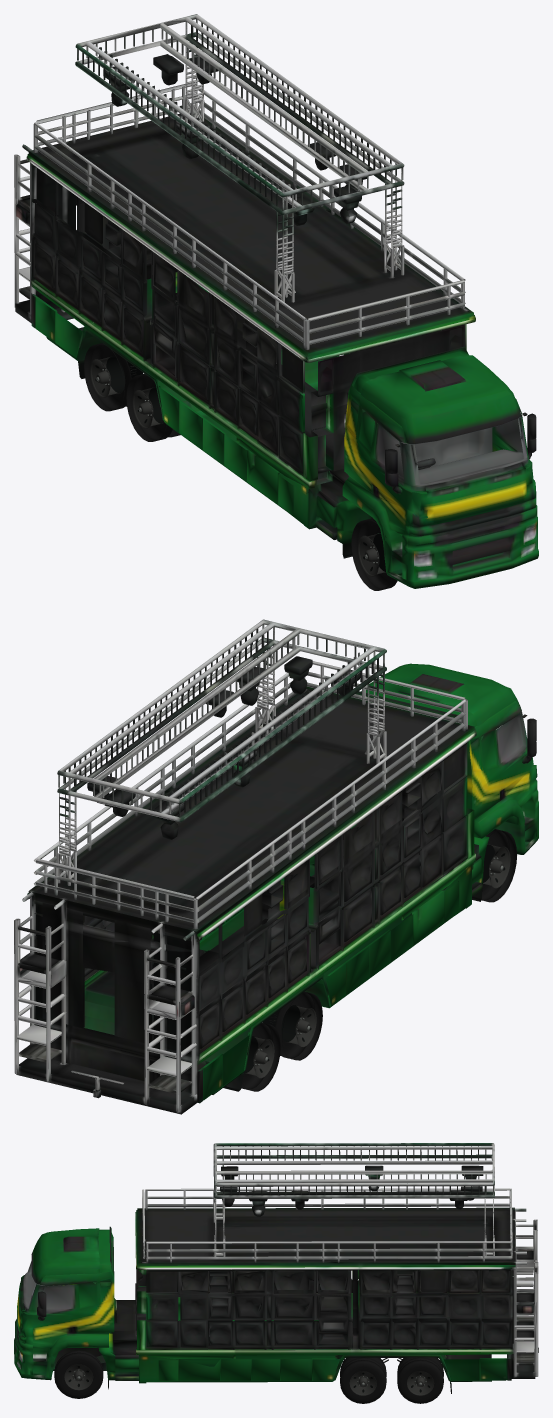
The model's file is som-caminhao-0.glb.
3 views of the same model, one above another, from view 1: azimuth 30°, elevation 25°; view 2: azimuth 150°, elevation 25°; view 3: azimuth 270°, elevation 25° (orthographic). The views are drawn at different scales.
Visible parts, largest first — view 1: Som_caminhao, Tyre_Rear2_L, Tyre_Rear_L, Tyre_Front_L; view 2: Som_caminhao, Tyre_Rear_L, Tyre_Front_L, Tyre_Rear2_L; view 3: Som_caminhao, Tyre_Front_R, Tyre_Rear_R, Tyre_Rear2_R.
Part boxes in pixels (x1,y1,x2,y2): Som_caminhao: (14, 14, 538, 588); Tyre_Rear2_L: (84, 343, 143, 411); Tyre_Rear_L: (126, 373, 180, 441); Tyre_Front_L: (351, 518, 397, 590); Som_caminhao: (14, 619, 538, 1114); Tyre_Rear_L: (263, 991, 322, 1060); Tyre_Front_L: (481, 829, 516, 902); Tyre_Rear2_L: (241, 1022, 280, 1091); Som_caminhao: (14, 1143, 538, 1393); Tyre_Front_R: (54, 1350, 103, 1398); Tyre_Rear_R: (340, 1357, 386, 1403); Tyre_Rear2_R: (397, 1357, 443, 1403).
Bounding box in the file's own units: 2.64 × 4.66 × 10.2.
1 material, 1 textured.
